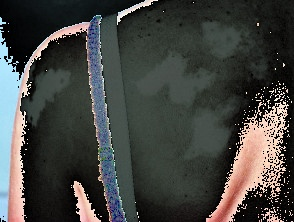vitiligo: (95, 0, 294, 203), (2, 49, 88, 156)
